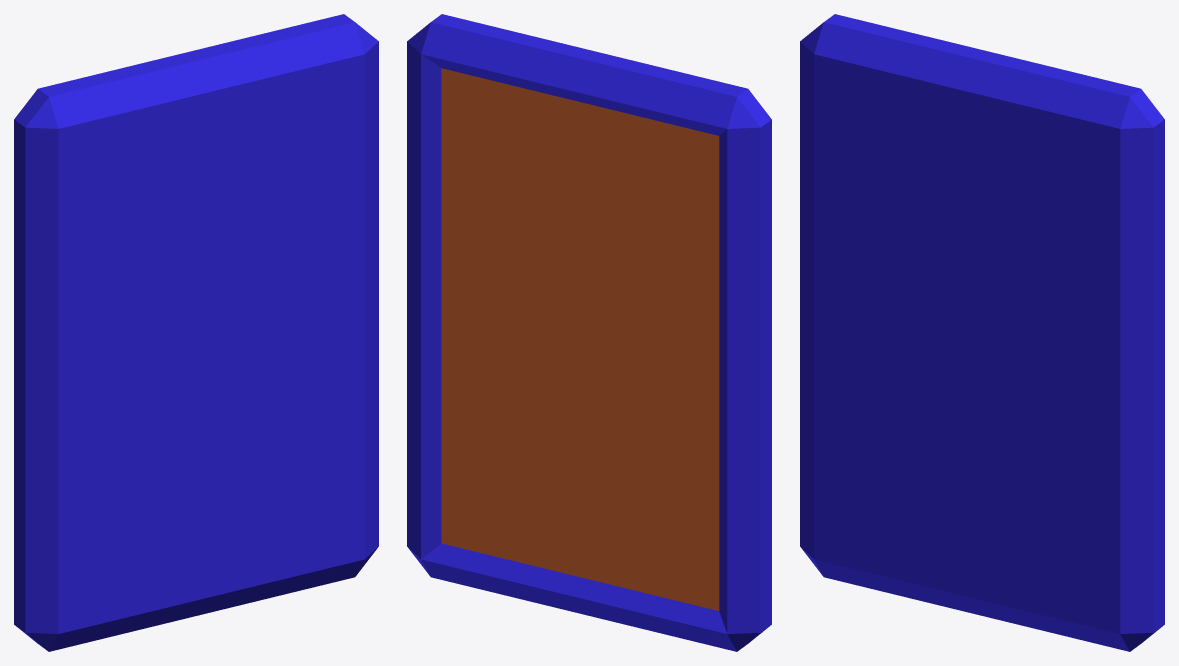
File: card.fbx
3 views of the same model, side by side, from view 1: azimuth 30°, elevation 25°; view 2: azimuth 150°, elevation 25°; view 3: azimuth 330°, elevation 25° (orthographic).
Parts seen in each view (by area): view 1: card; view 2: card; view 3: card.
Part boxes in pixels (x1=…): card: x1=14, y1=14, x2=378, y2=651; card: x1=407, y1=14, x2=771, y2=651; card: x1=800, y1=14, x2=1164, y2=651.
Size of the model in its own units: 20 by 3 by 30.
